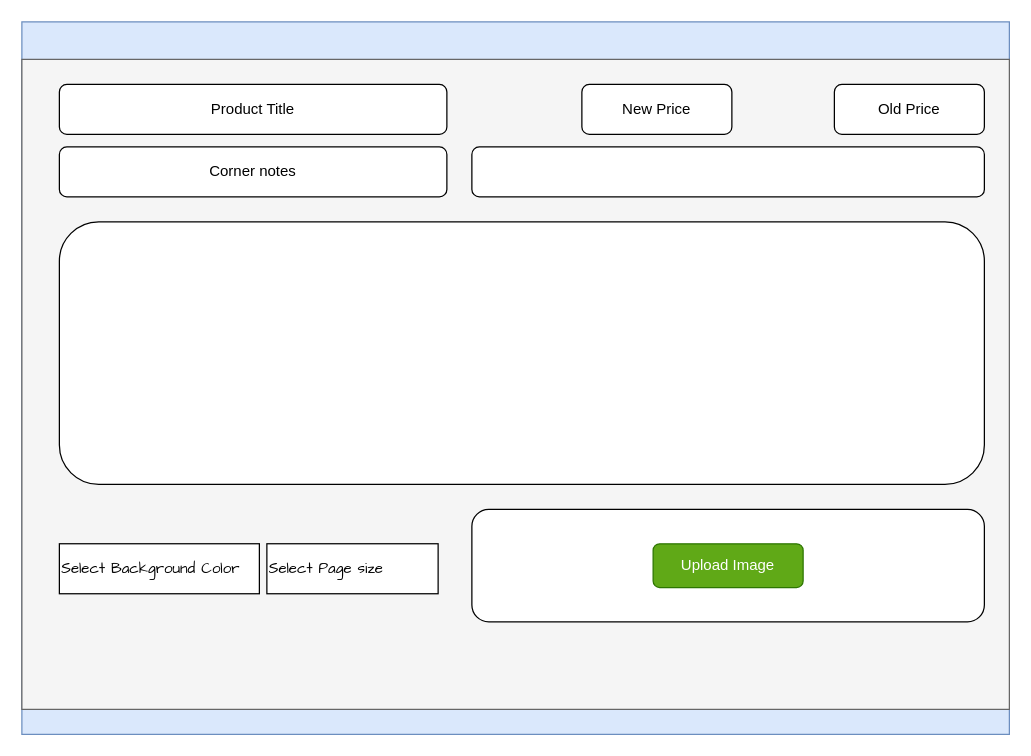
Some shapes in this 1031 by 756 pixel diagram are drawn without their labels. The shapes that lost their labels are listed below. From the top down, each one's centre as x and y in pixels, then its label:
point 727,171: Product manufacturer
point 521,352: Textaditor to type Specifications
